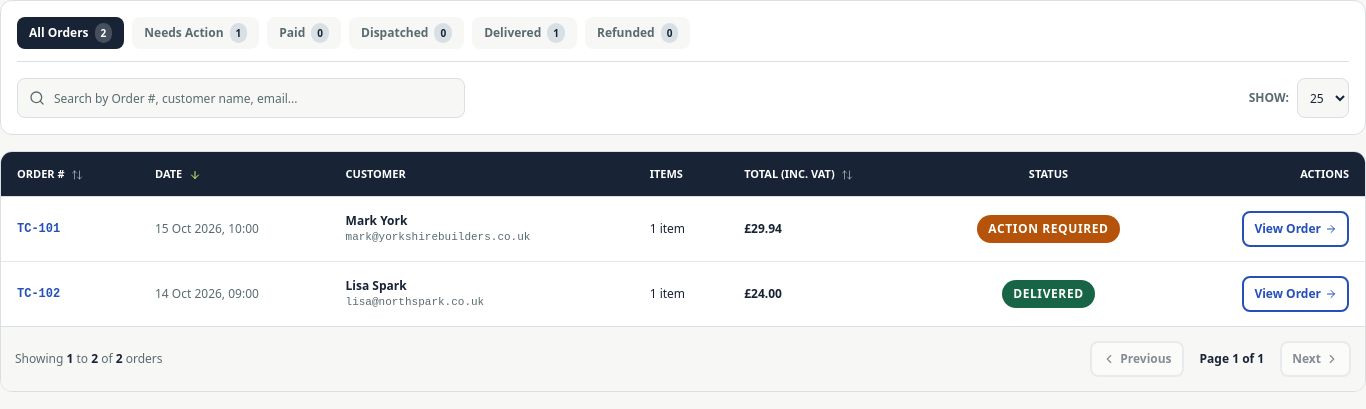
Milestone M2: High-Reliability Data Tables & Bulk Actions › 6. Interactive OrdersTable Component › filters orders by Needs Action state tab
Click the button "Needs Action 1" at (196, 33), box [132, 17, 259, 49]
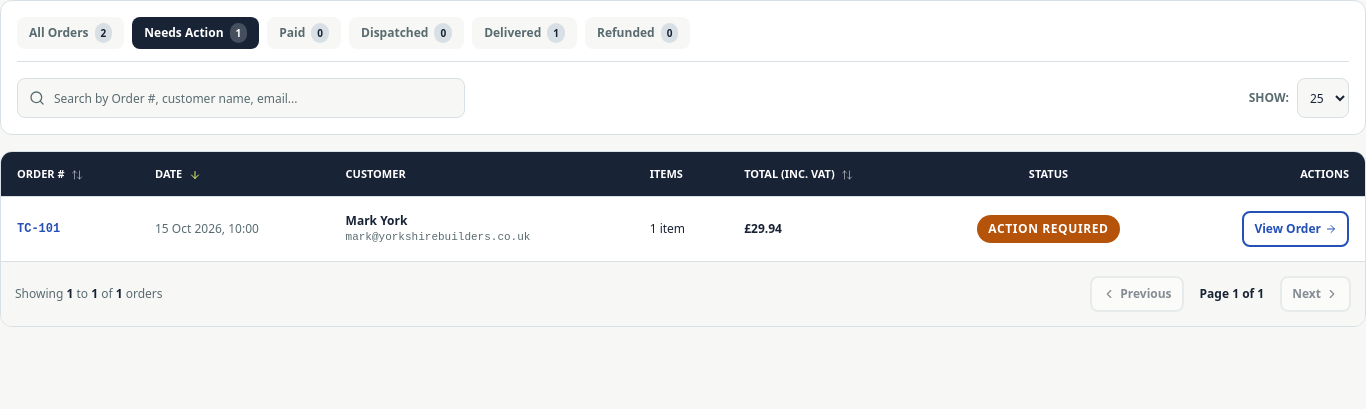
Expected: the text "TC-101" is shown, [1, 196, 139, 261]
Expected: the text "TC-102" is gone
